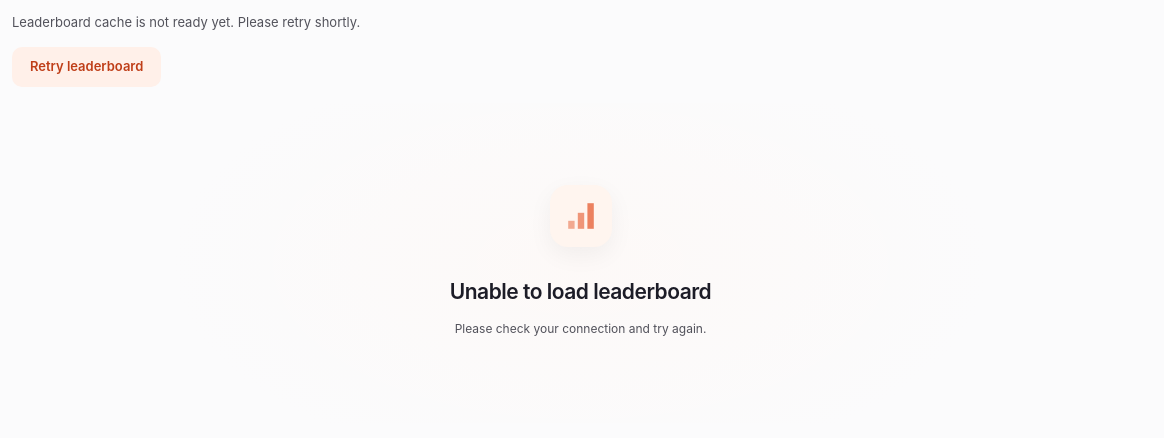
Test: live leaderboard › shows failure, permits retry, re-translates live errors and points units, and never invents empty results
This screenshot has width=1164, height=438.
Expected: the text "榜单缓存尚未就绪" is shown, [12, 14, 360, 30]
Click the button "Retry leaderboard": (87, 67) [12, 47, 161, 87]
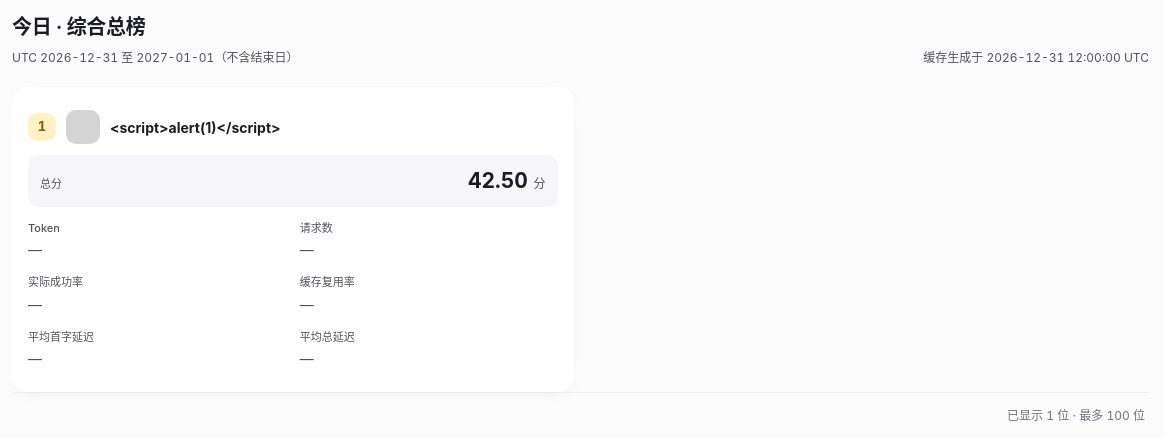
Result: the element titled "42.50 分" is shown at [468, 165, 546, 197]
Result: the text with class "metric-unit" reads "分" at [534, 176, 546, 191]
